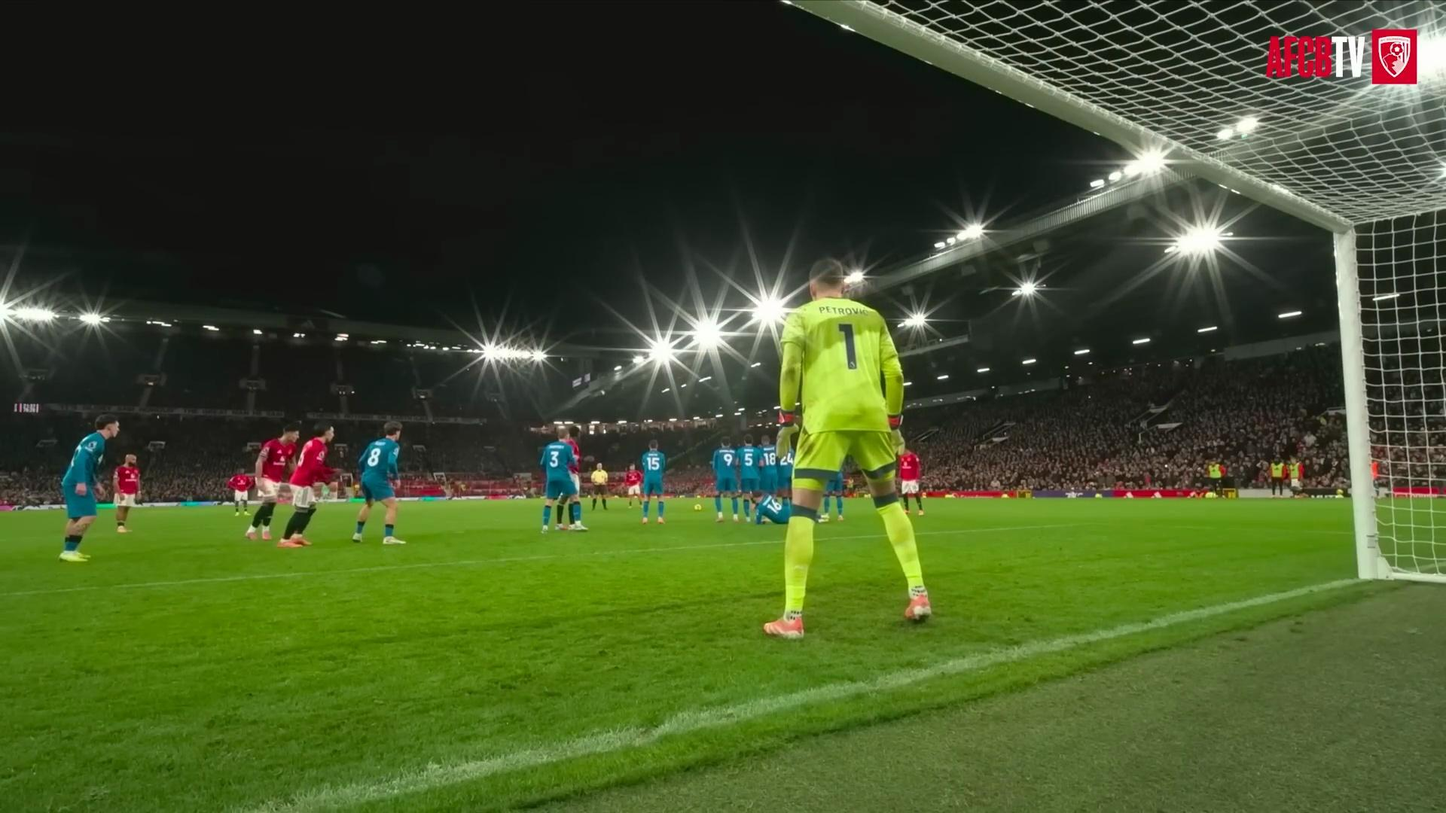football: (689, 497, 708, 518)
player: (764, 260, 931, 638), (59, 414, 118, 562), (277, 422, 334, 547), (352, 422, 405, 544), (245, 423, 300, 540), (539, 428, 575, 532), (557, 426, 587, 530), (712, 437, 738, 521), (112, 454, 139, 532), (641, 440, 666, 523), (738, 434, 761, 520), (898, 448, 923, 515), (818, 469, 845, 521), (227, 469, 252, 516), (759, 435, 778, 495), (774, 446, 793, 504), (1205, 456, 1228, 503), (754, 494, 790, 524), (624, 463, 642, 508), (1269, 453, 1286, 498)
referee: (590, 462, 609, 509)
